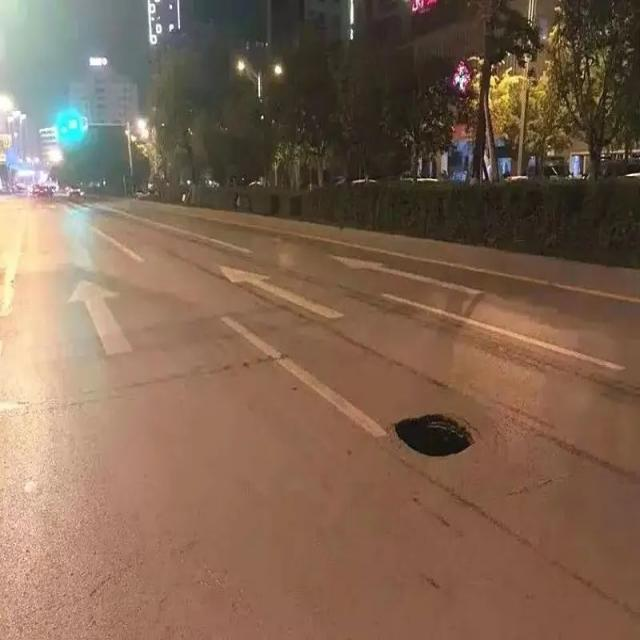pothole: (397, 413, 471, 461)
